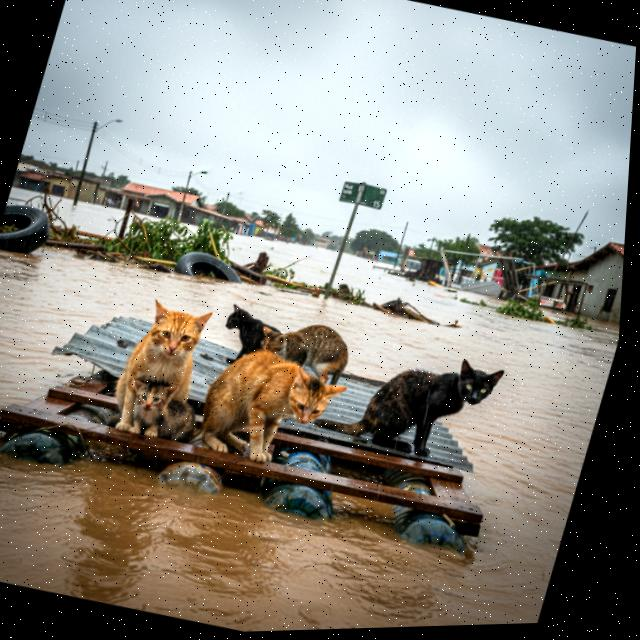cat: (308, 328, 512, 476), (96, 293, 232, 453), (191, 338, 341, 470), (106, 363, 205, 447), (255, 310, 363, 384), (209, 302, 279, 372)
